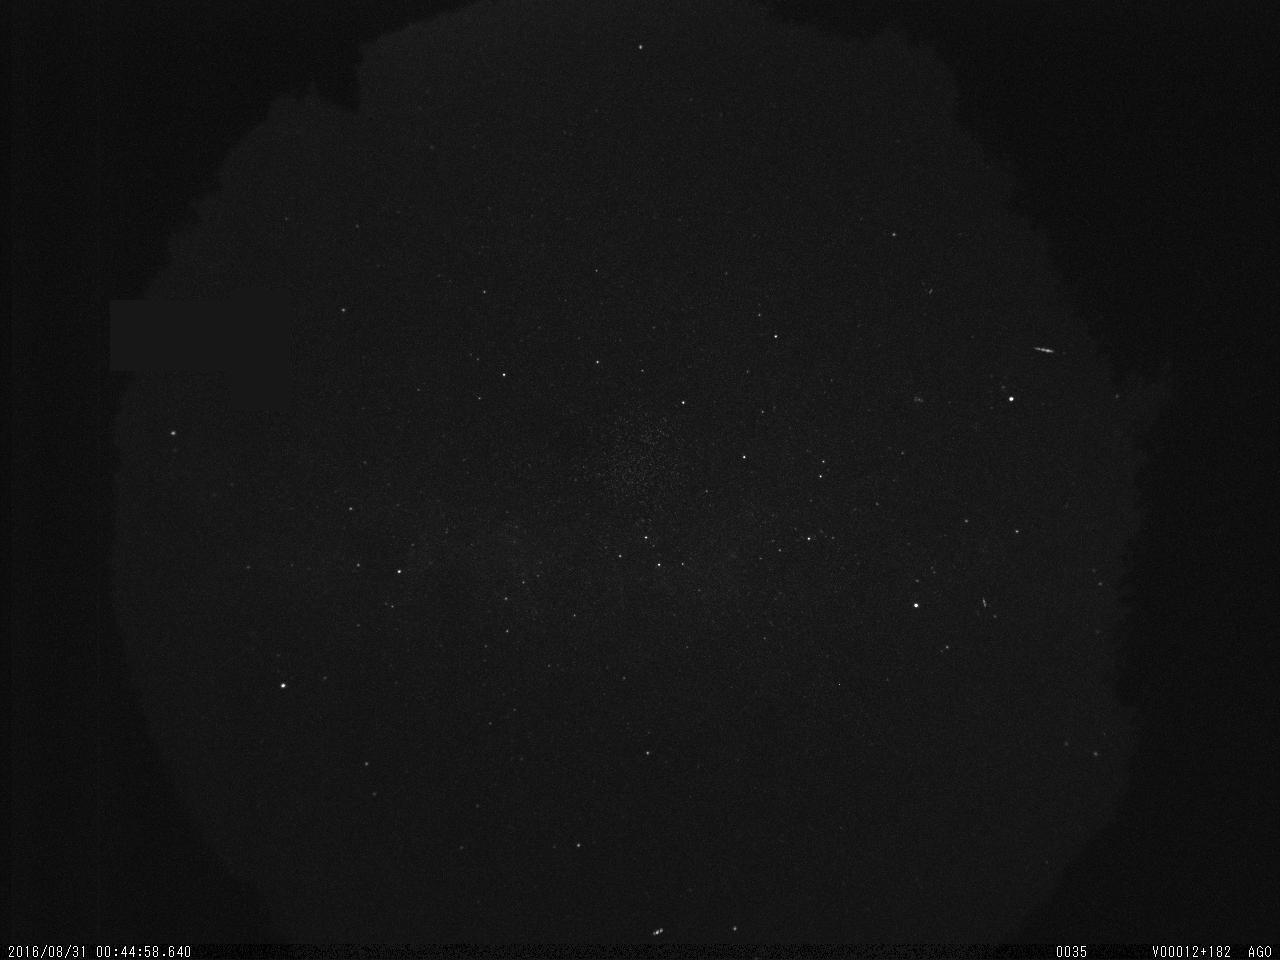Meteor: (1029, 344, 1056, 356)
